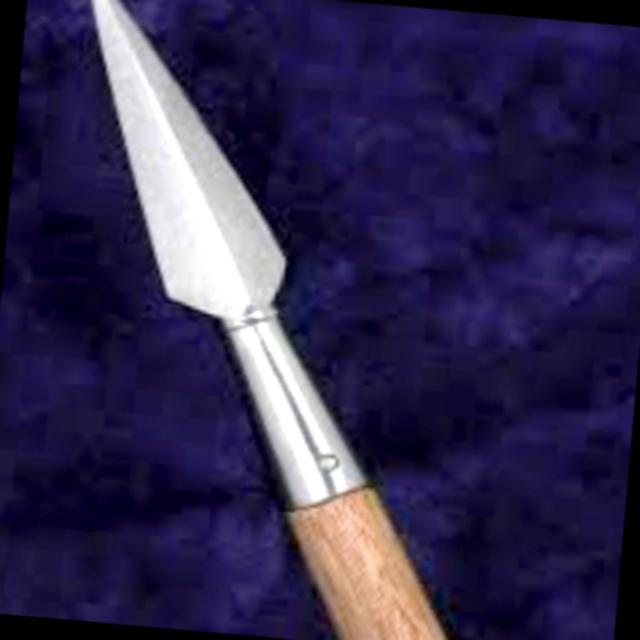spear: (6, 0, 523, 640)
